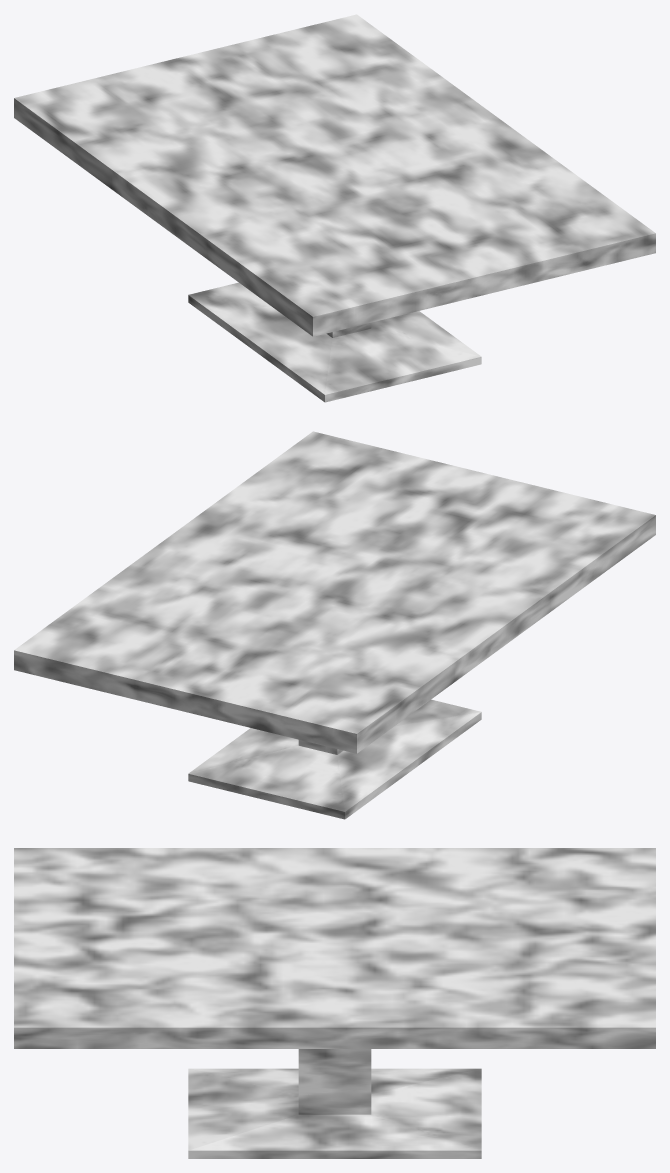
File: Table.glb
3 views of the same model, one above another, from view 1: azimuth 30°, elevation 25°; view 2: azimuth 150°, elevation 25°; view 3: azimuth 270°, elevation 25° (orthographic). The views are drawn at different scales.
Parts seen in each view (by area): view 1: Cube; view 2: Cube; view 3: Cube.
Part boxes in pixels (bbox=[...]): Cube: bbox=[14, 14, 655, 402]; Cube: bbox=[14, 431, 655, 819]; Cube: bbox=[14, 848, 655, 1158].
Size of the model in its own units: 2.24 by 1.05 by 3.38.
Materials: 1 (1 with a texture image).
